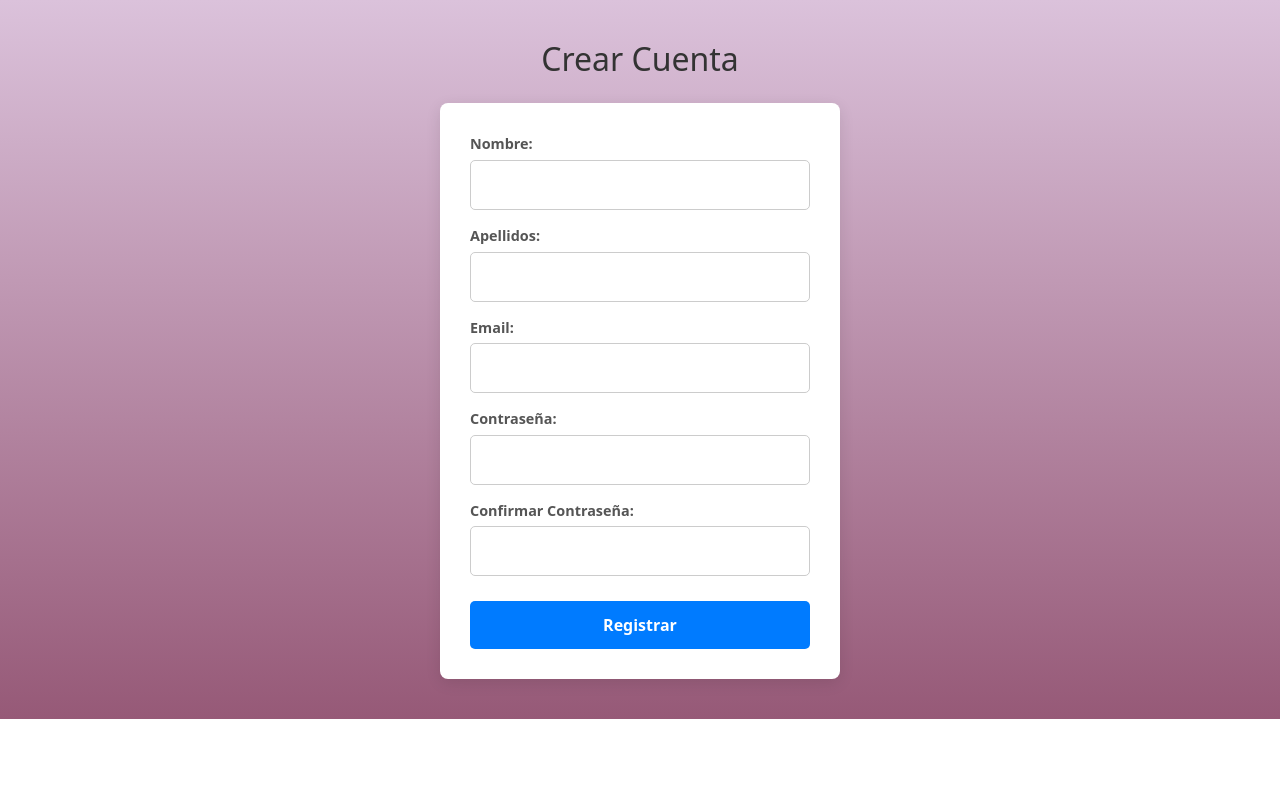
Test case: RegistroUsuario Component › debe mostrar un error si la contraseña es muy corta
The image size is (1280, 800).
Type "Test" into the field with test id "nombre-input" at [640, 185], box [470,160,810,210]
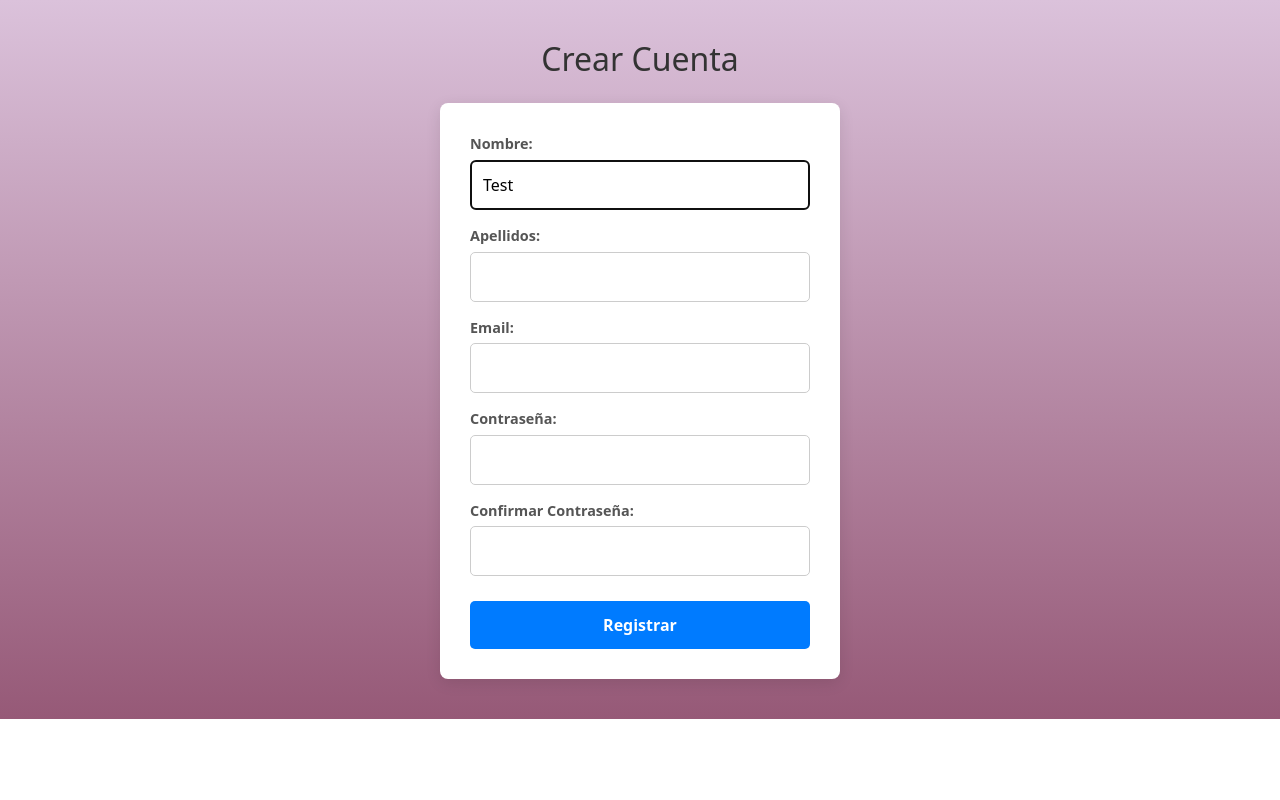
Type "User" into the field with test id "apellidos-input" at [640, 277], box [470,252,810,302]
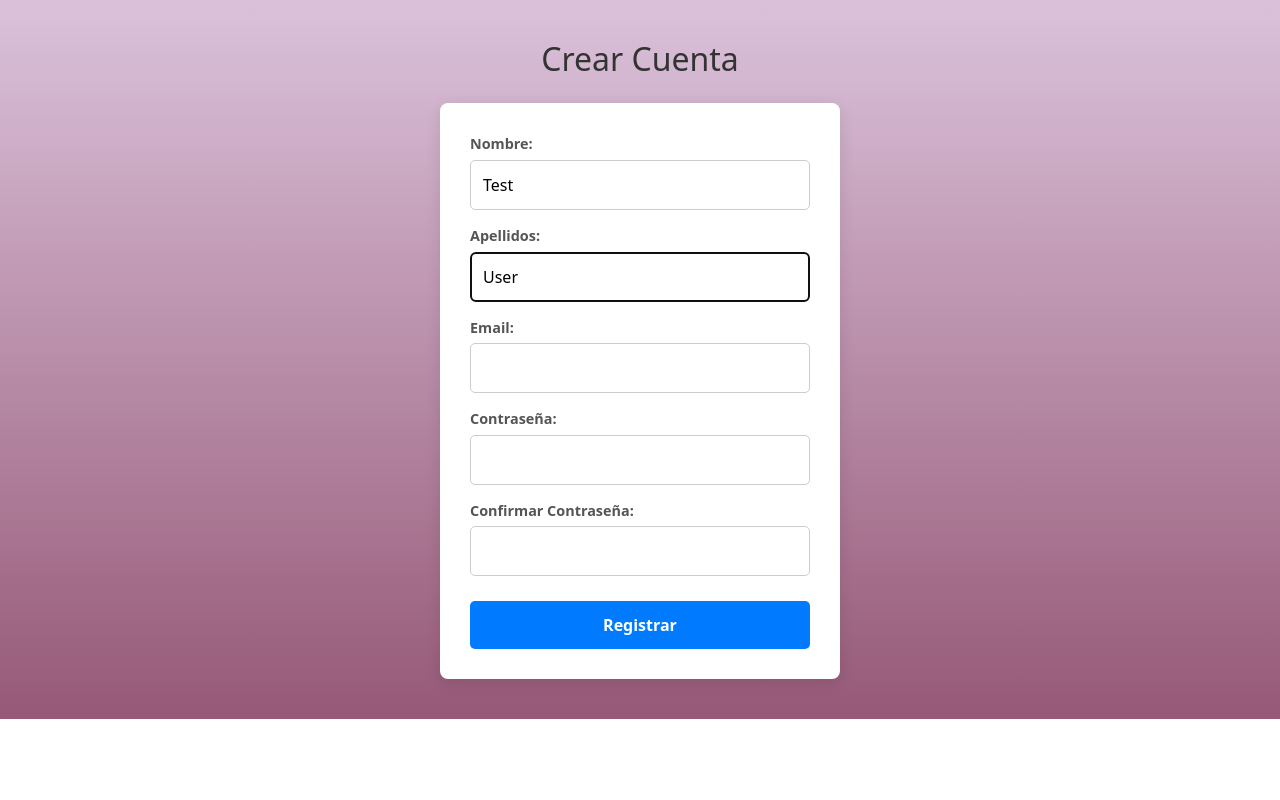
Type "test@user.com" into the field with test id "email-input" at [640, 368], box [470,343,810,393]
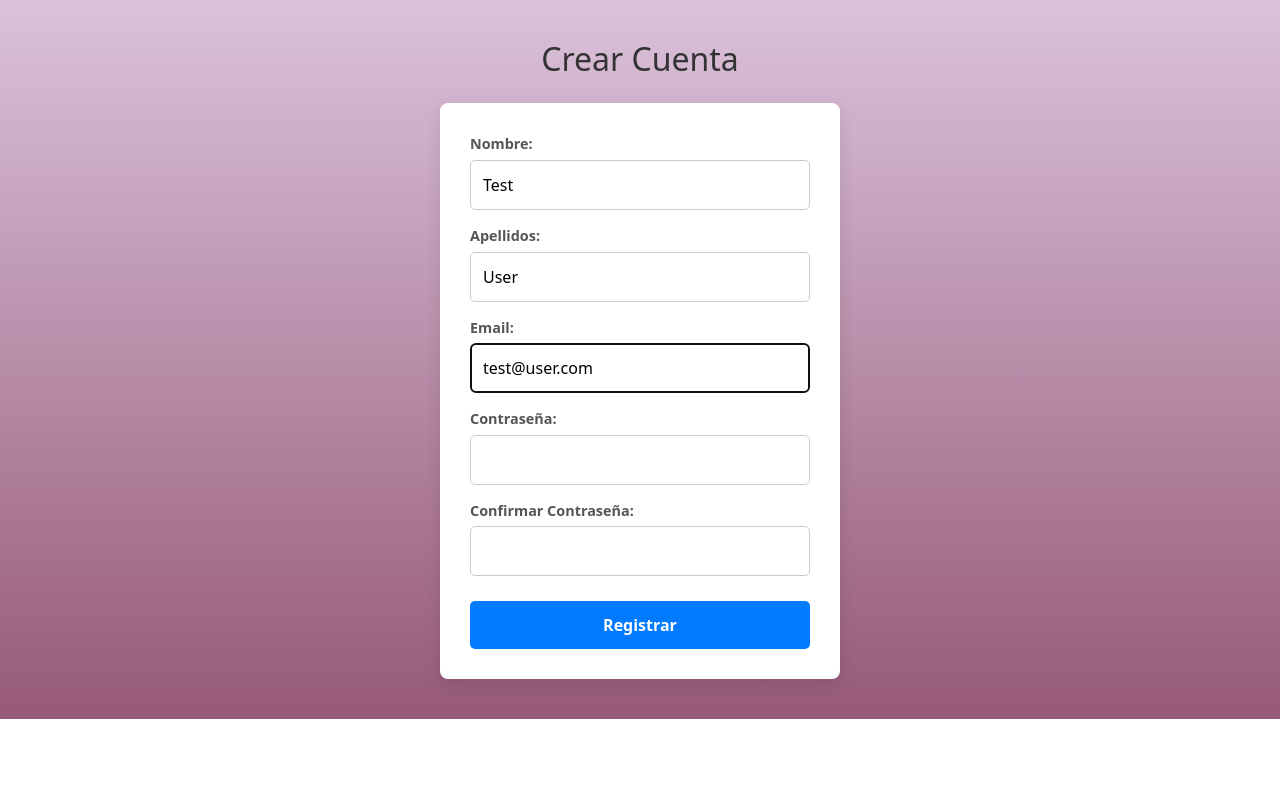
Type "123" into the password field with test id "password-input" at [640, 460], box [470,435,810,485]
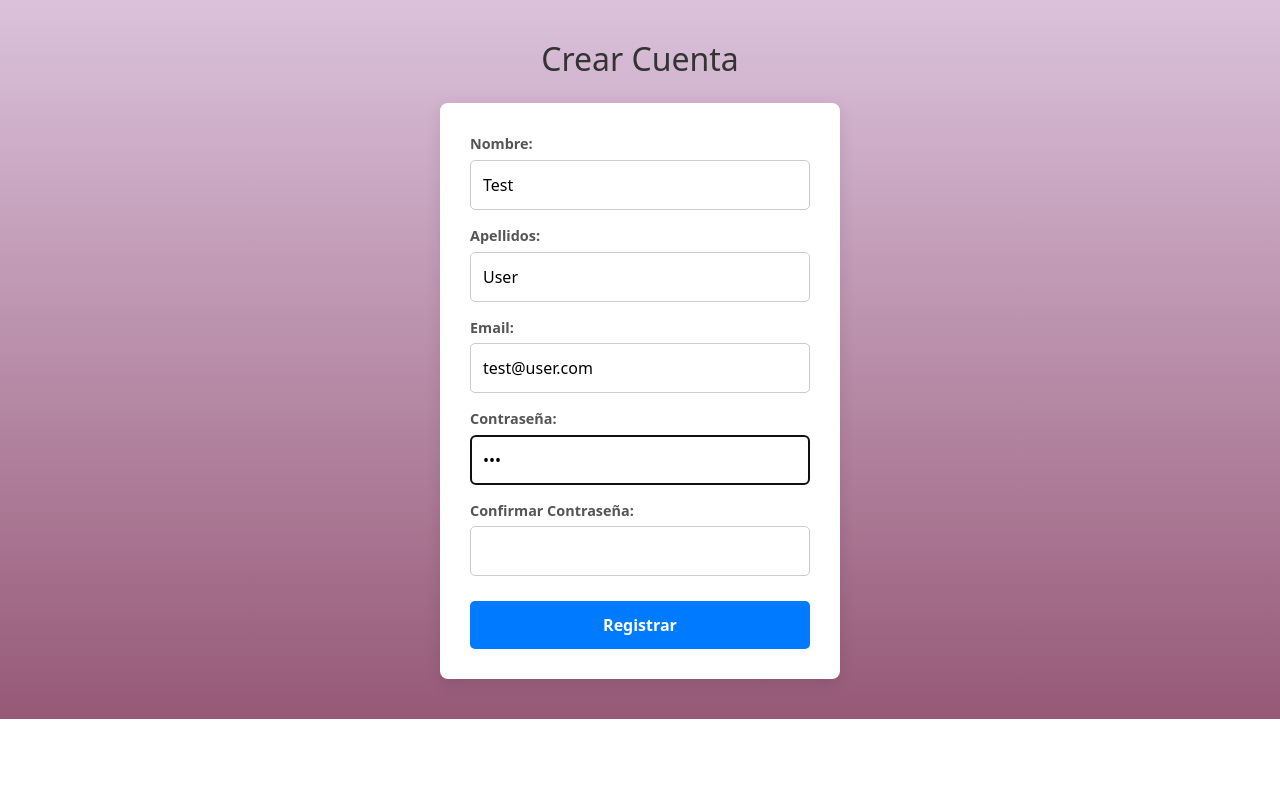
Type "123" into the password field with test id "confirm-password-input" at [640, 551], box [470,526,810,576]
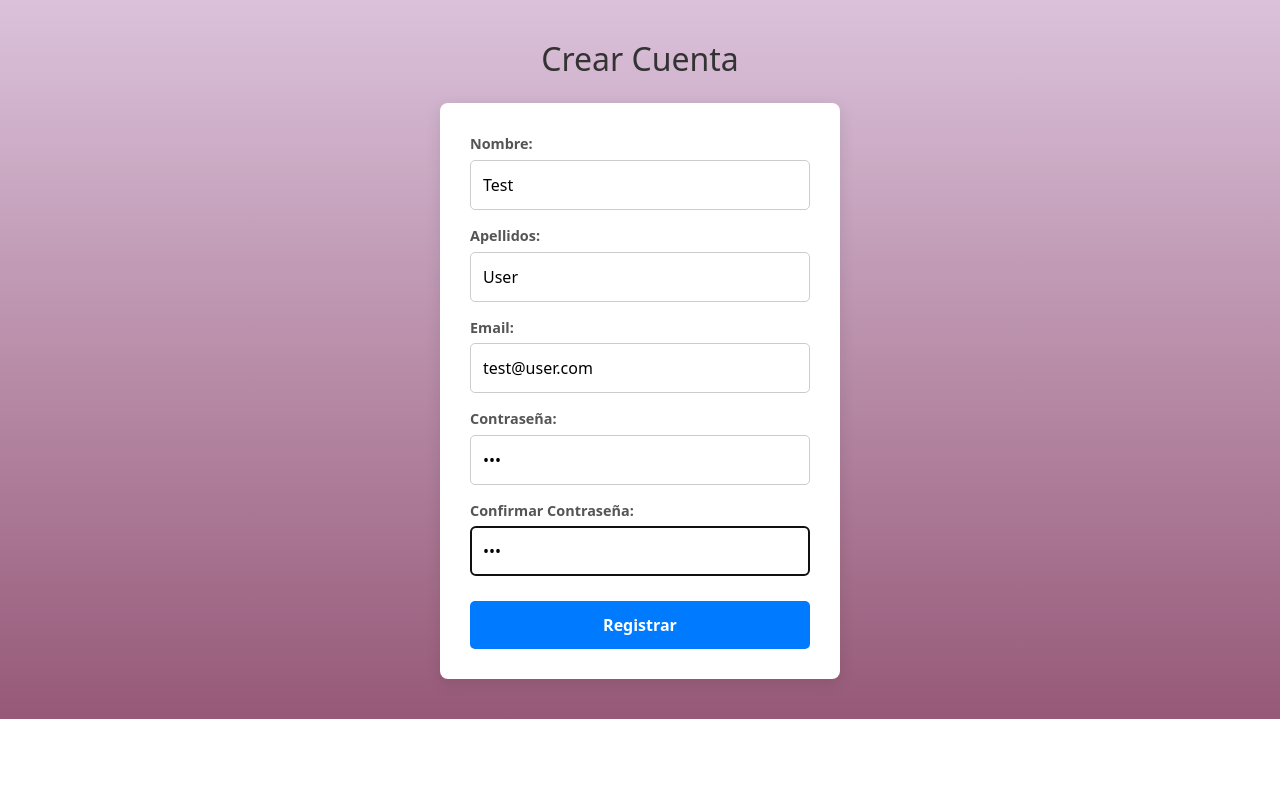
Click the button "Registrar" at [640, 625], box [470,601,810,649]
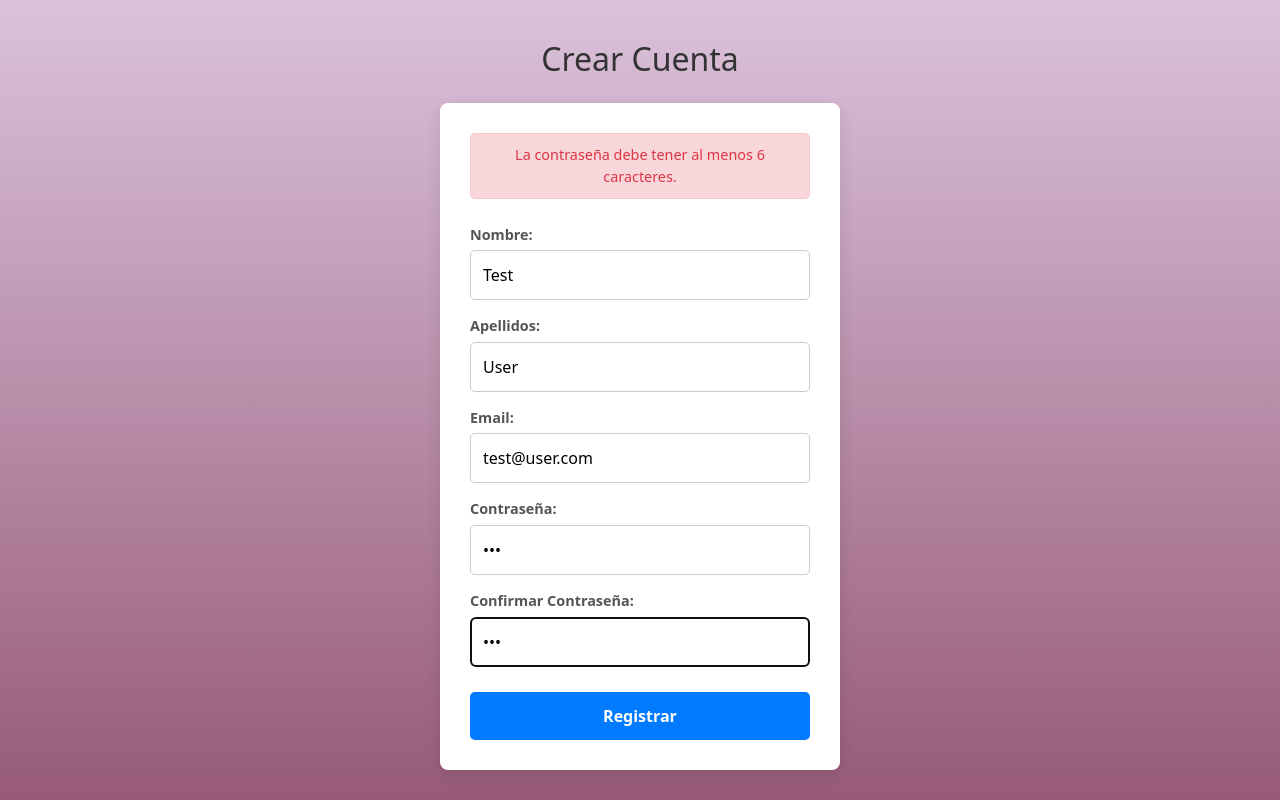
Result: the text "La contraseña debe tener al menos 6 caracteres." is shown at [470,133,810,199]
